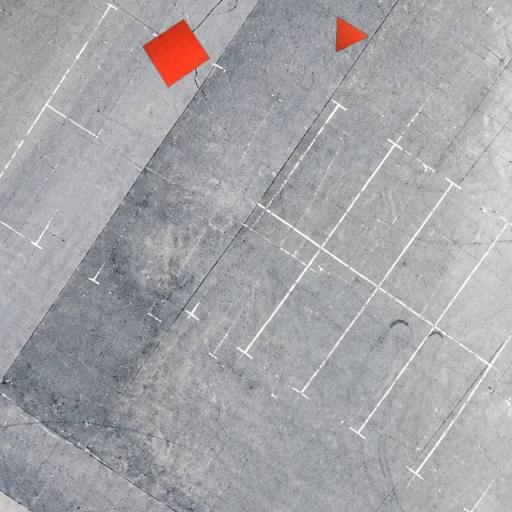RED_SQUARE: (142, 18, 210, 88)
